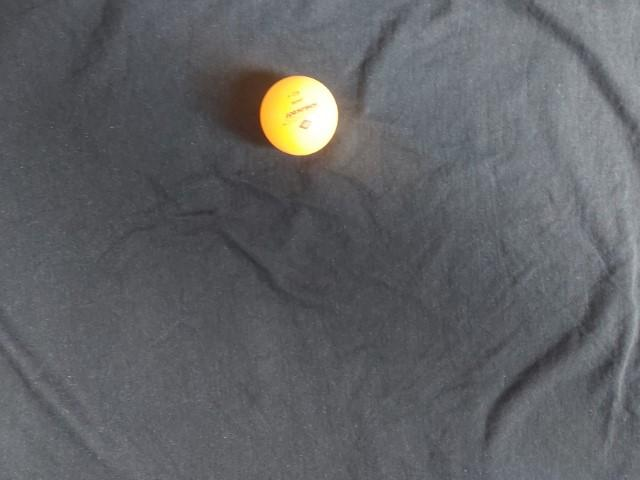oball: (297, 317, 385, 408)
